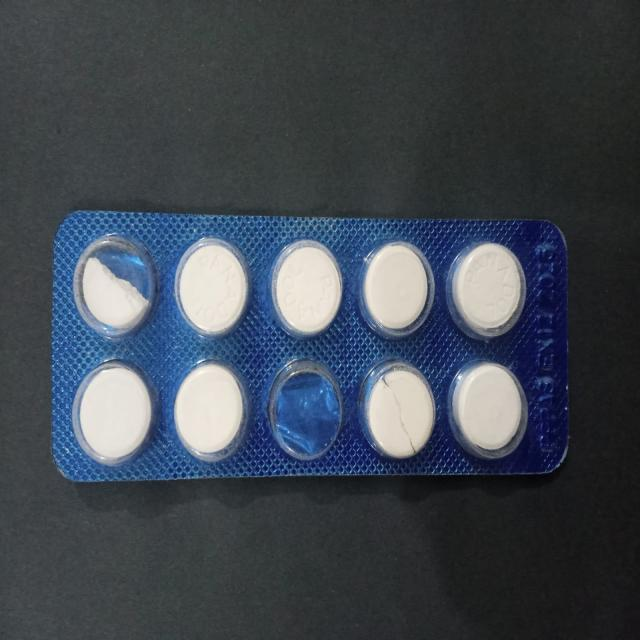defect: (71, 230, 162, 344), (262, 352, 346, 464), (355, 354, 439, 463)
